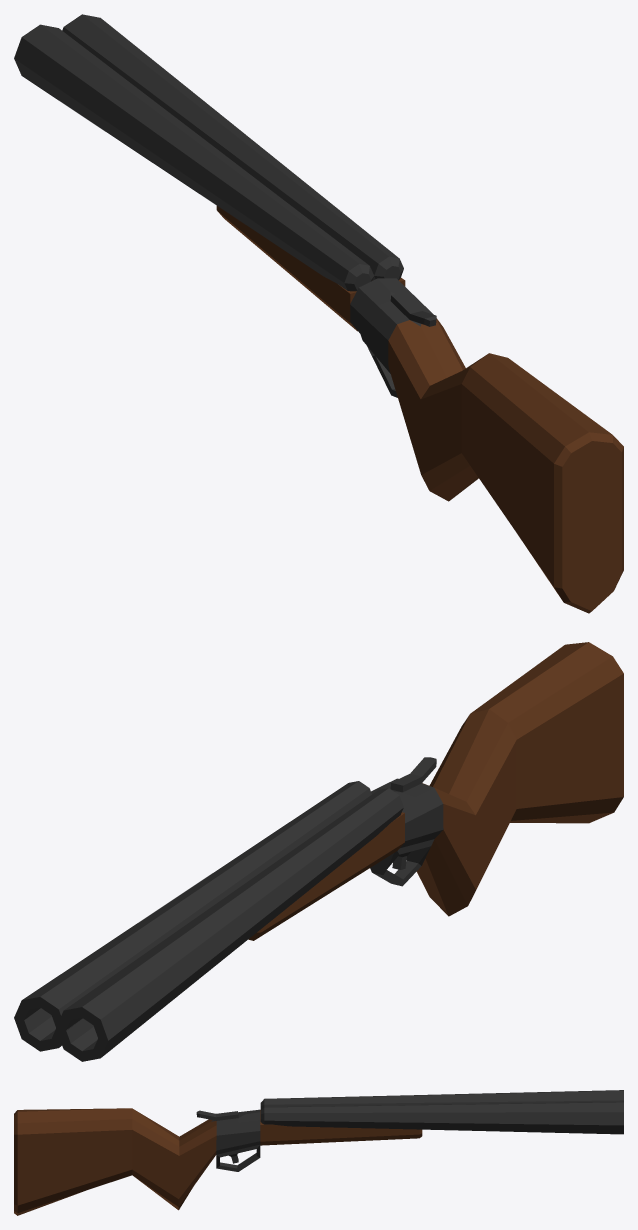
Rendered from Espingarda12DoisCanos.fbx.
3 views of the same model, one above another, from view 1: azimuth 30°, elevation 25°; view 2: azimuth 150°, elevation 25°; view 3: azimuth 270°, elevation 25° (orthographic). The views are drawn at different scales.
Visible parts, largest first — view 1: Cube; view 2: Cube; view 3: Cube.
Boxes of the visible parts, <box> form: Cube: <box>14,14,623,613</box>; Cube: <box>14,642,623,1061</box>; Cube: <box>14,1090,623,1215</box>.
Bounding box in the file's own units: 17.72 × 37.3 × 173.
